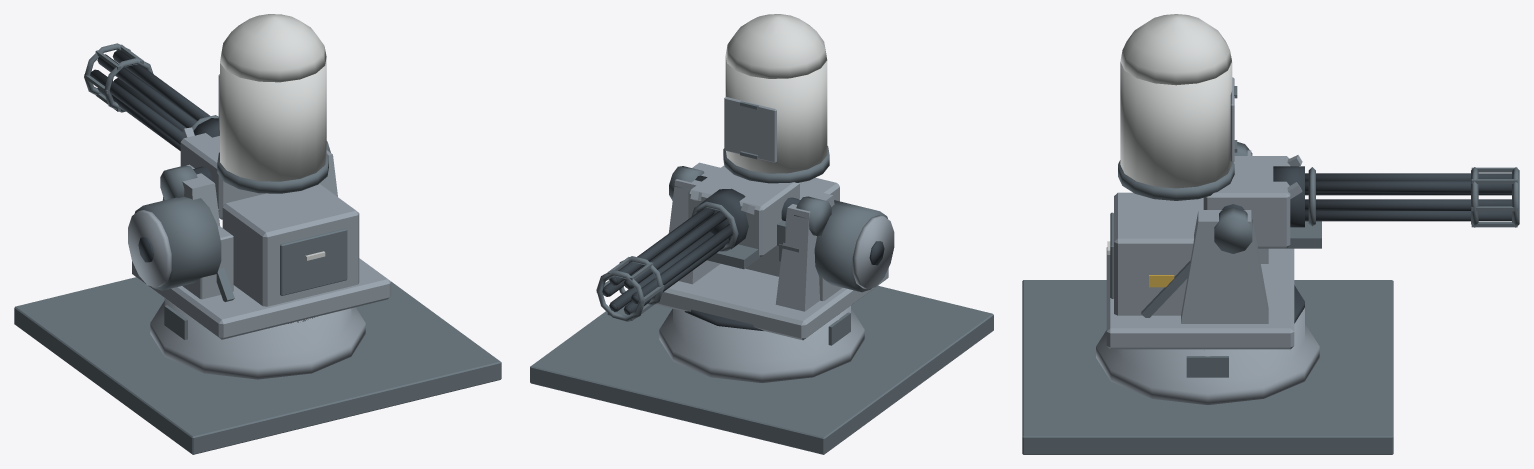
The model's file is MOD_CIWS.fbx.
3 views of the same model, side by side, from view 1: azimuth 30°, elevation 25°; view 2: azimuth 150°, elevation 25°; view 3: azimuth 270°, elevation 25° (orthographic). The views are drawn at different scales.
Parts seen in each view (by area): view 1: MOD_CIWS_Root_Visual_Deck_Grey, TurretPivot_Visual_Naval_Blue_Grey, ElevationPivot_Visual_Medical_White, CIWSFixedDeckPedestal, TurretPivot_Visual_Deck_Grey, BarrelCluster_Visual_Gunmetal, ElevationPivot_Visual_Naval_Blue_Grey, BarrelCluster_Visual_Deck_Grey, ElevationPivot_Visual_Deck_Grey, ElevationPivot_Visual_Gunmetal; view 2: MOD_CIWS_Root_Visual_Deck_Grey, TurretPivot_Visual_Naval_Blue_Grey, ElevationPivot_Visual_Medical_White, CIWSFixedDeckPedestal, ElevationPivot_Visual_Naval_Blue_Grey, BarrelCluster_Visual_Gunmetal, TurretPivot_Visual_Deck_Grey, ElevationPivot_Visual_Deck_Grey, BarrelCluster_Visual_Deck_Grey, ElevationPivot_Visual_Gunmetal, CIWSFixedYawBearing; view 3: MOD_CIWS_Root_Visual_Deck_Grey, TurretPivot_Visual_Naval_Blue_Grey, ElevationPivot_Visual_Medical_White, CIWSFixedDeckPedestal, BarrelCluster_Visual_Gunmetal, ElevationPivot_Visual_Naval_Blue_Grey, TurretPivot_Visual_Deck_Grey, ElevationPivot_Visual_Deck_Grey, BarrelCluster_Visual_Deck_Grey, ElevationPivot_Visual_Gunmetal.
Part boxes in pixels (x1,y1,x2,y2): MOD_CIWS_Root_Visual_Deck_Grey: [14, 277, 501, 454]; TurretPivot_Visual_Naval_Blue_Grey: [128, 150, 391, 339]; ElevationPivot_Visual_Medical_White: [220, 14, 326, 181]; CIWSFixedDeckPedestal: [150, 298, 365, 379]; TurretPivot_Visual_Deck_Grey: [134, 141, 347, 301]; BarrelCluster_Visual_Gunmetal: [90, 50, 210, 150]; ElevationPivot_Visual_Naval_Blue_Grey: [180, 74, 265, 219]; BarrelCluster_Visual_Deck_Grey: [84, 43, 218, 130]; ElevationPivot_Visual_Deck_Grey: [167, 152, 328, 193]; ElevationPivot_Visual_Gunmetal: [193, 118, 219, 181]; MOD_CIWS_Root_Visual_Deck_Grey: [530, 285, 993, 454]; TurretPivot_Visual_Naval_Blue_Grey: [655, 162, 894, 340]; ElevationPivot_Visual_Medical_White: [725, 14, 827, 173]; CIWSFixedDeckPedestal: [659, 305, 864, 382]; ElevationPivot_Visual_Naval_Blue_Grey: [688, 97, 799, 257]; BarrelCluster_Visual_Gunmetal: [602, 208, 732, 314]; TurretPivot_Visual_Deck_Grey: [669, 166, 887, 292]; ElevationPivot_Visual_Deck_Grey: [707, 101, 829, 269]; BarrelCluster_Visual_Deck_Grey: [596, 201, 738, 321]; ElevationPivot_Visual_Gunmetal: [695, 175, 800, 249]; CIWSFixedYawBearing: [684, 309, 763, 330]; MOD_CIWS_Root_Visual_Deck_Grey: [1022, 280, 1393, 454]; TurretPivot_Visual_Naval_Blue_Grey: [1106, 150, 1294, 349]; ElevationPivot_Visual_Medical_White: [1120, 14, 1232, 188]; CIWSFixedDeckPedestal: [1096, 307, 1319, 404]; BarrelCluster_Visual_Gunmetal: [1305, 173, 1511, 221]; ElevationPivot_Visual_Naval_Blue_Grey: [1203, 77, 1302, 248]; TurretPivot_Visual_Deck_Grey: [1110, 142, 1252, 317]; ElevationPivot_Visual_Deck_Grey: [1118, 86, 1321, 248]; BarrelCluster_Visual_Deck_Grey: [1308, 167, 1519, 227]; ElevationPivot_Visual_Gunmetal: [1222, 166, 1304, 227].
Size of the model in its own units: 176 by 188 by 236.
